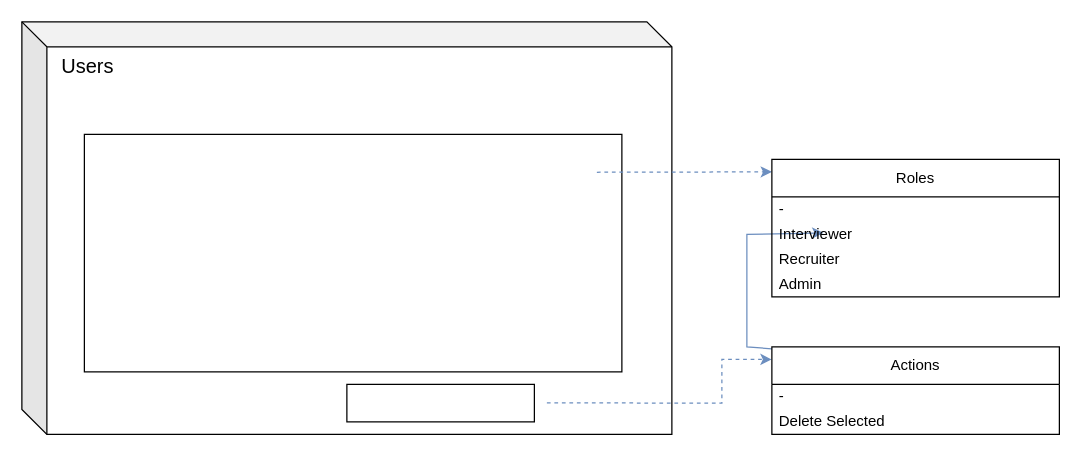
Some shapes in this 1081 by 456 pixel diagram are drawn without their labels. Each missing label, with the centre of its shape:
"Action Button" belongs at (x=440, y=402).
"Table" belongs at (x=352, y=252).
